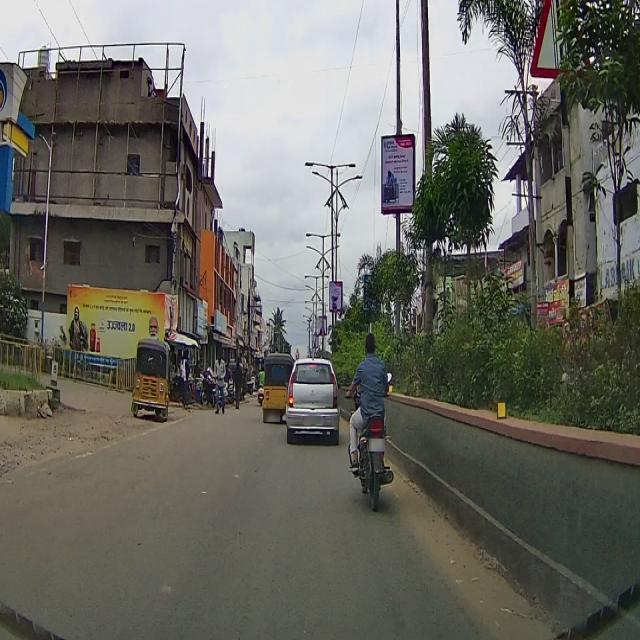gap-in-median: (533, 3, 589, 78)
